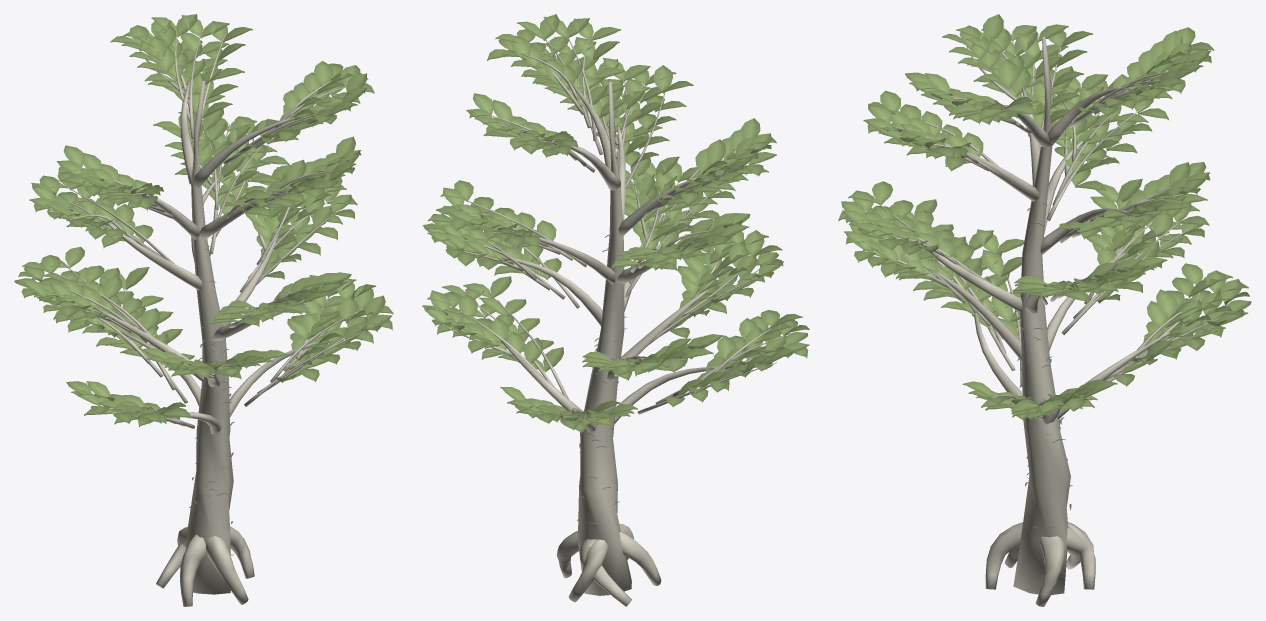
File: birch.glb
The picture shows the model from 3 angles, left to right: view 1: azimuth 30°, elevation 25°; view 2: azimuth 150°, elevation 25°; view 3: azimuth 270°, elevation 25°; orthographic projection. The views are drawn at different scales.
Visible parts, largest first — view 1: GEO-birch individual veined leaves, GEO-birch branching bark; view 2: GEO-birch individual veined leaves, GEO-birch branching bark; view 3: GEO-birch individual veined leaves, GEO-birch branching bark.
Part boxes in pixels (x1,y1,x2,y2): GEO-birch individual veined leaves: (14, 14, 393, 427); GEO-birch branching bark: (32, 34, 373, 606); GEO-birch individual veined leaves: (422, 14, 809, 433); GEO-birch branching bark: (441, 36, 788, 606); GEO-birch individual veined leaves: (838, 14, 1251, 421); GEO-birch branching bark: (864, 33, 1234, 606).
Size of the model in its own units: 3.67 by 5.36 by 3.65.
